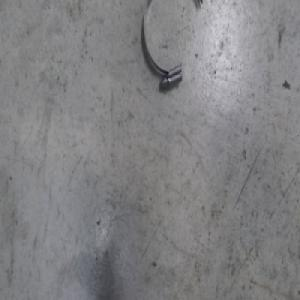AdjustableClamp: (141, 0, 201, 89)
